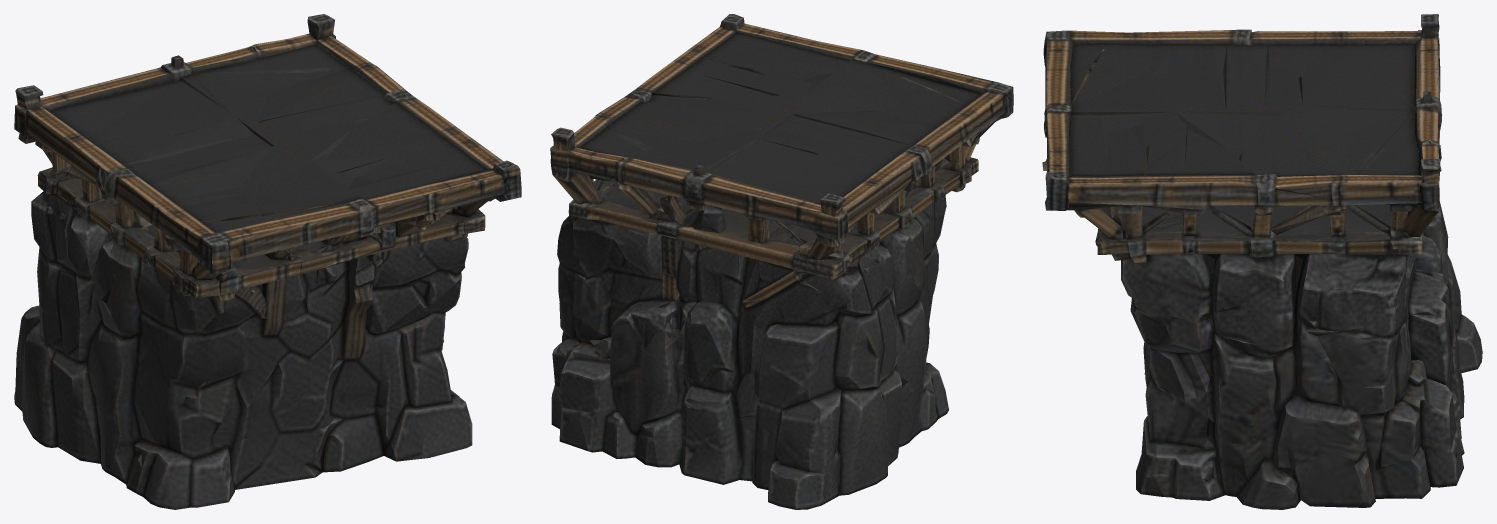
File: stunt-cliff-deck.glb
3 views of the same model, side by side, from view 1: azimuth 30°, elevation 25°; view 2: azimuth 150°, elevation 25°; view 3: azimuth 270°, elevation 25° (orthographic). The views are drawn at different scales.
Size of the model in its own units: 1.78 by 1.54 by 1.87.
1 material, 1 textured.
